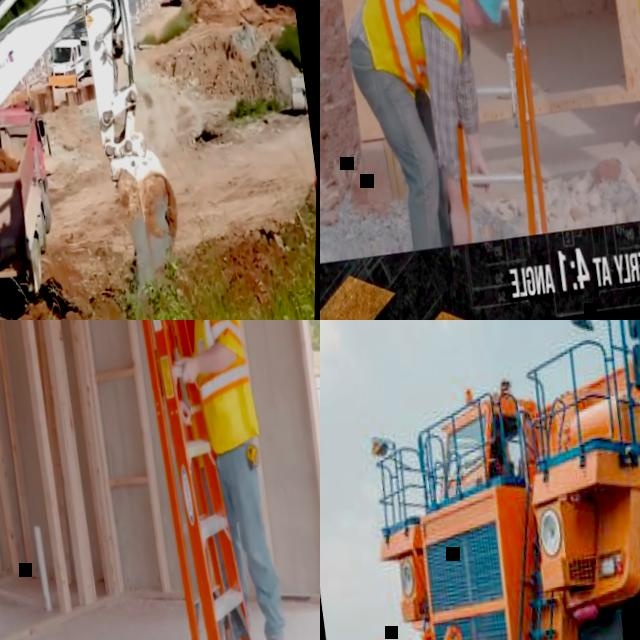Hardhat: (460, 0, 516, 24)
NO-Mask: (466, 6, 482, 29)
Person: (334, 0, 547, 255), (151, 320, 292, 640)
Safety Cone: (314, 169, 318, 192)
Safety Vest: (356, 0, 475, 105), (181, 320, 264, 455)
machinery: (320, 320, 640, 640), (0, 0, 213, 320), (0, 94, 72, 311)
vehicle: (50, 36, 86, 87), (80, 34, 95, 74)
